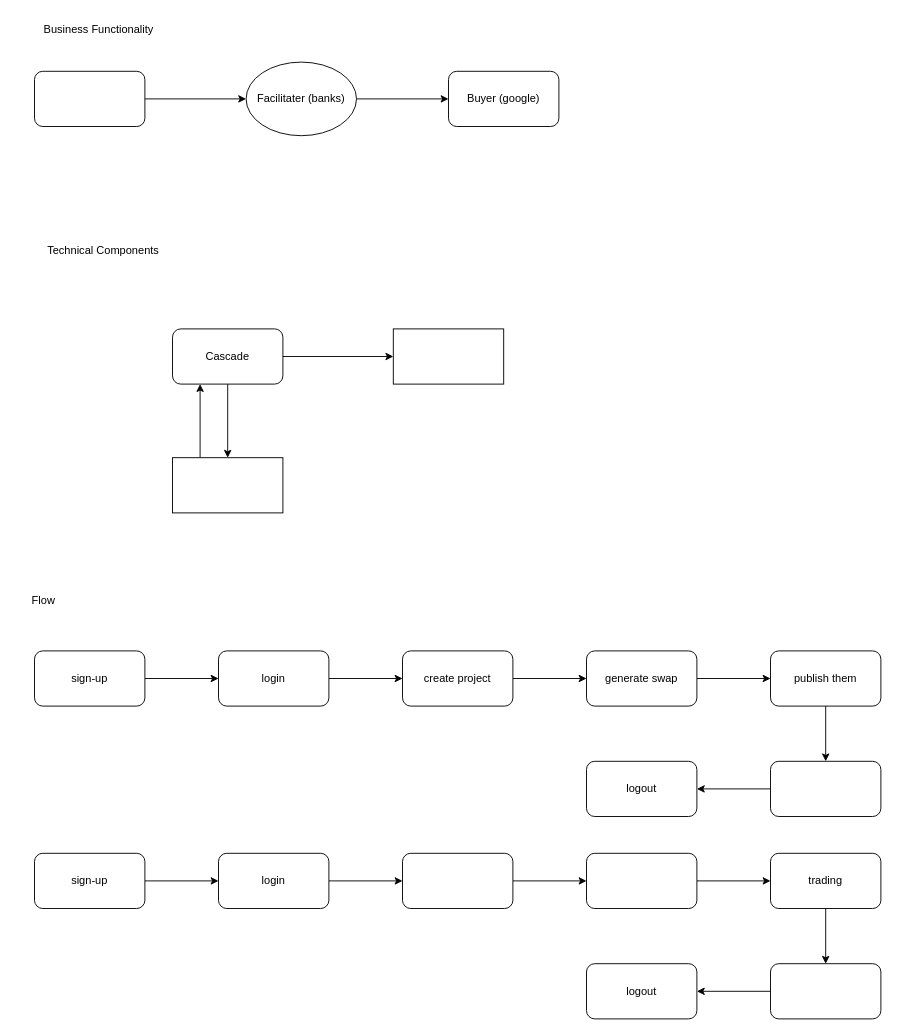
This 897x1035 diagram has some shape labels left out. Each missing label, with the box of its shape:
arcaria: (392, 328, 504, 384)
browse project: (402, 852, 513, 908)
buy stuff: (770, 963, 881, 1019)
execute the request for execution/trading: (770, 760, 881, 816)
generate rfe: (586, 852, 697, 908)
resurety: (172, 457, 283, 513)
Seller (duke): (34, 70, 145, 126)
